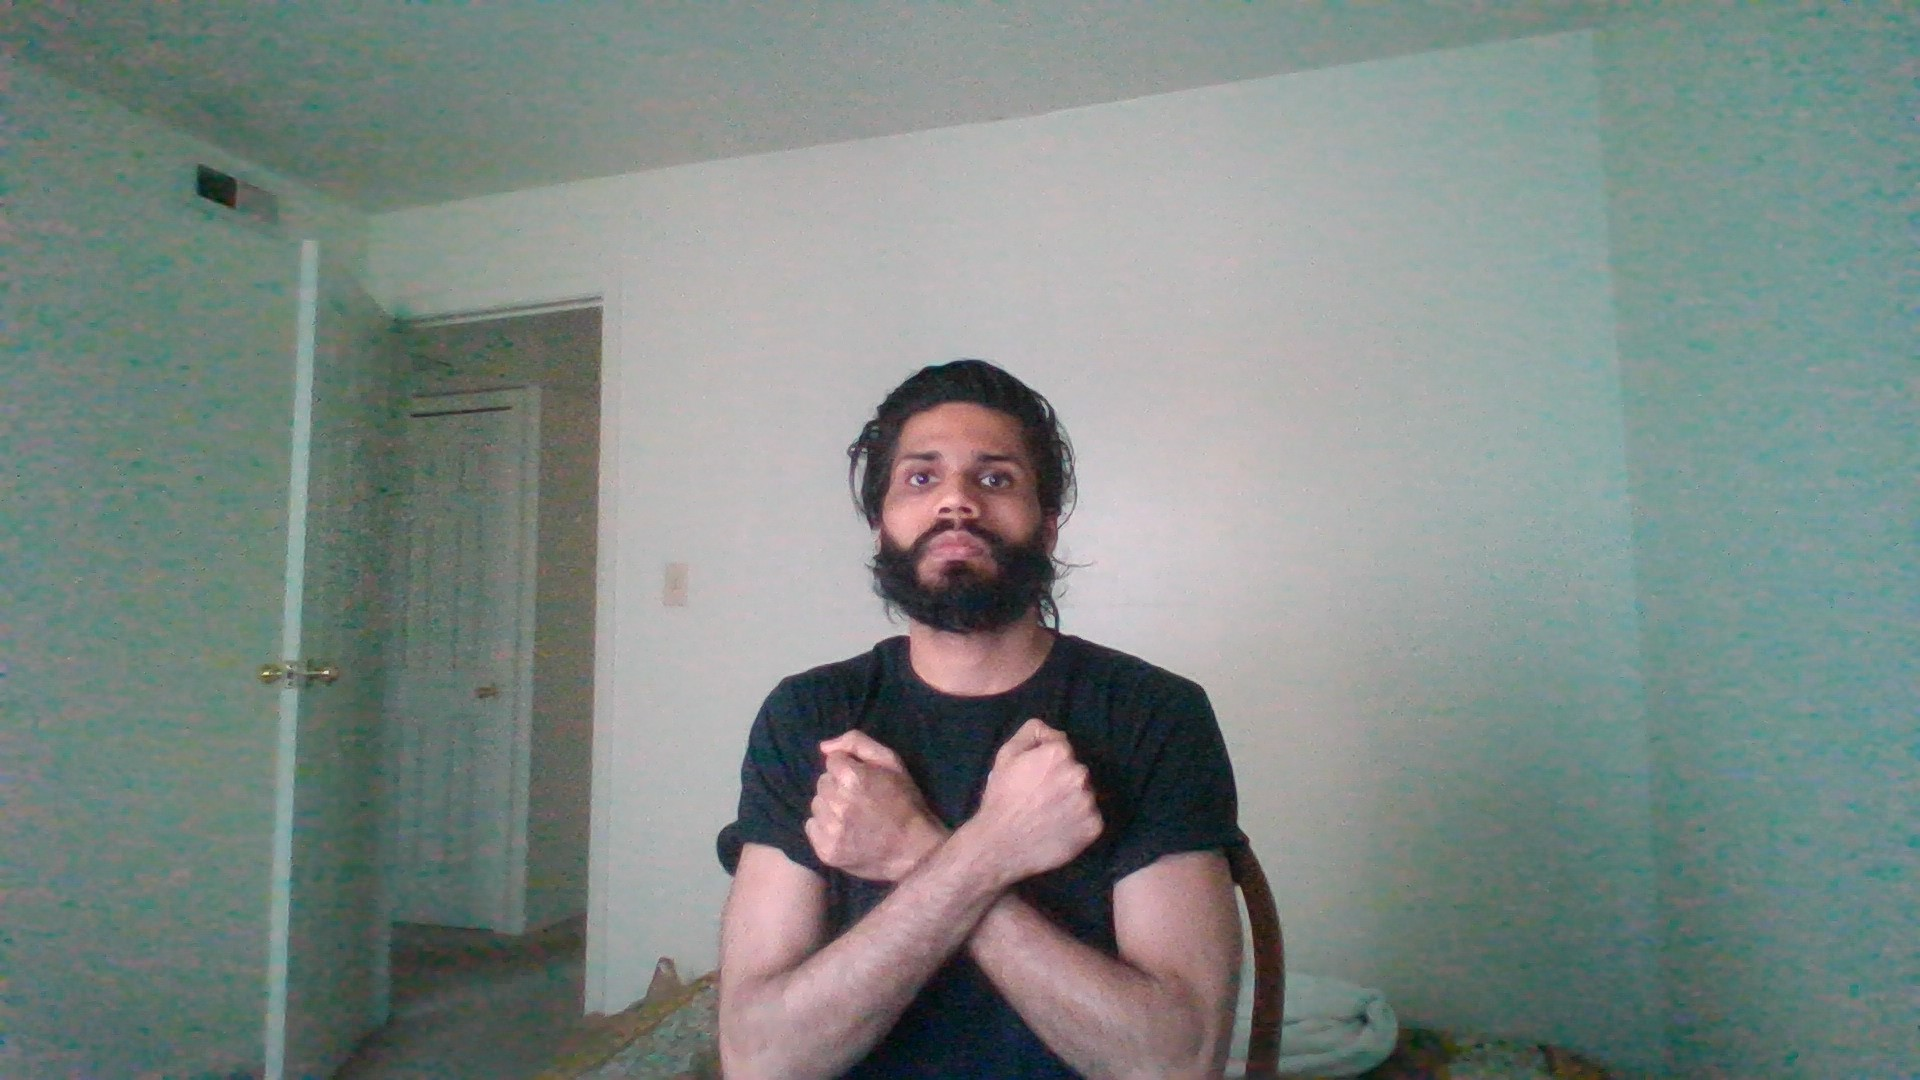Love: (789, 700, 1134, 1038)
